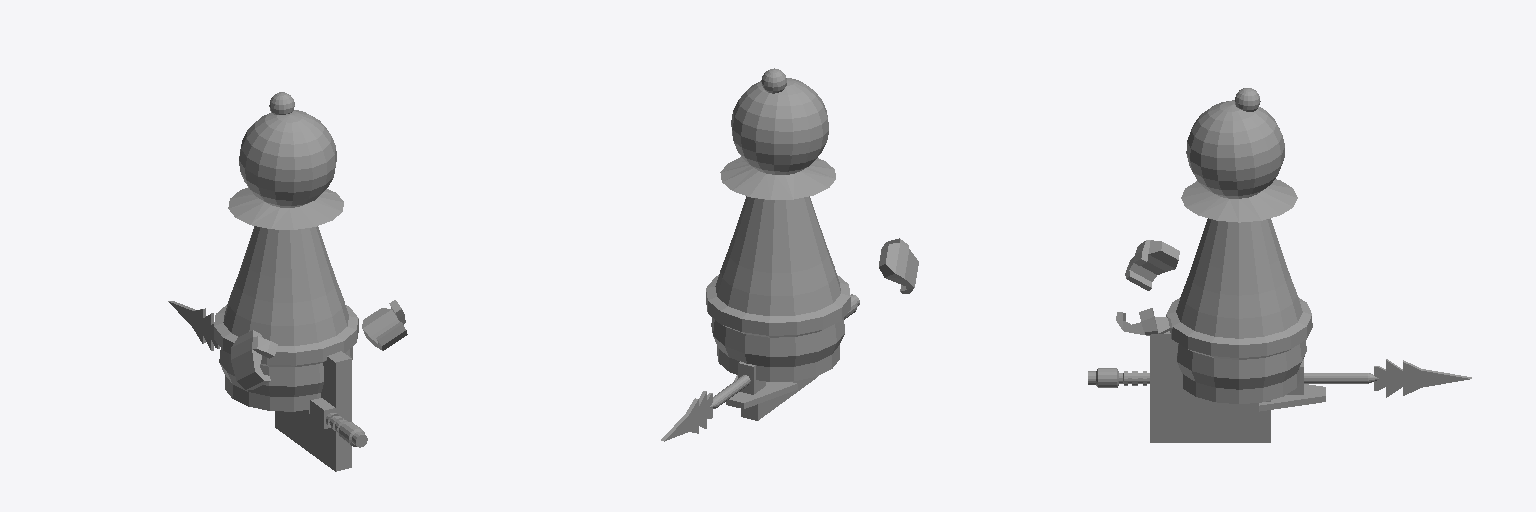
Rendered from redpawnpalette.0.5.5.obj.
3 views of the same model, side by side, from view 1: azimuth 30°, elevation 25°; view 2: azimuth 150°, elevation 25°; view 3: azimuth 270°, elevation 25° (orthographic).
Visible parts, largest first — view 1: pawnmesh_Cube, Cube_Cube.004, spear_Cylinder.002; view 2: pawnmesh_Cube, spear_Cylinder.002, Cube.001_Cube.003, Cube_Cube.004; view 3: pawnmesh_Cube, Cube_Cube.004, spear_Cylinder.002, Cube.001_Cube.003.
Boxes of the visible parts, x1=… form: pawnmesh_Cube: x1=214, y1=92, x2=407, y2=411; Cube_Cube.004: x1=275, y1=351, x2=351, y2=471; spear_Cylinder.002: x1=168, y1=301, x2=367, y2=447; pawnmesh_Cube: x1=706, y1=68, x2=918, y2=381; spear_Cylinder.002: x1=661, y1=294, x2=859, y2=441; Cube.001_Cube.003: x1=726, y1=375, x2=797, y2=408; Cube_Cube.004: x1=741, y1=376, x2=817, y2=420; pawnmesh_Cube: x1=1116, y1=88, x2=1312, y2=403; Cube_Cube.004: x1=1150, y1=331, x2=1270, y2=442; spear_Cylinder.002: x1=1088, y1=359, x2=1471, y2=397; Cube.001_Cube.003: x1=1259, y1=384, x2=1325, y2=411.
Size of the model in its own units: 0.9611 by 1.9 by 1.92.